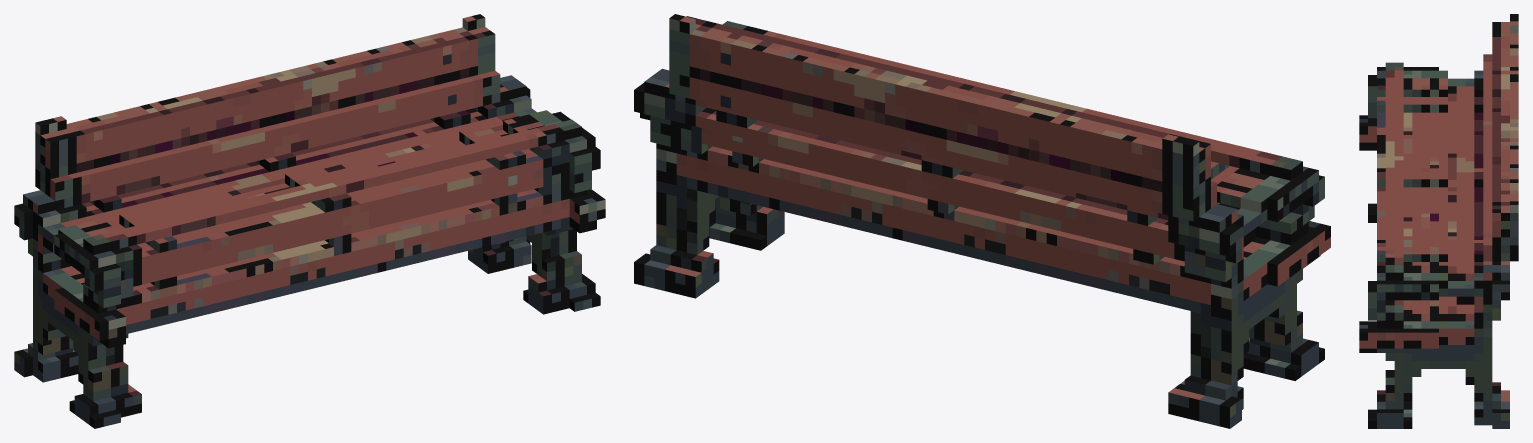
Rendered from city_bench.glb.
3 views of the same model, side by side, from view 1: azimuth 30°, elevation 25°; view 2: azimuth 150°, elevation 25°; view 3: azimuth 270°, elevation 25° (orthographic). The views are drawn at different scales.
Visible parts, largest first — view 1: city_bench; view 2: city_bench; view 3: city_bench.
Boxes of the visible parts, bbox=[...] form: city_bench: bbox=[14, 14, 605, 428]; city_bench: bbox=[634, 14, 1330, 428]; city_bench: bbox=[1359, 14, 1518, 428].
Bounding box in the file's own units: 1.81 × 0.8125 × 0.5625.
